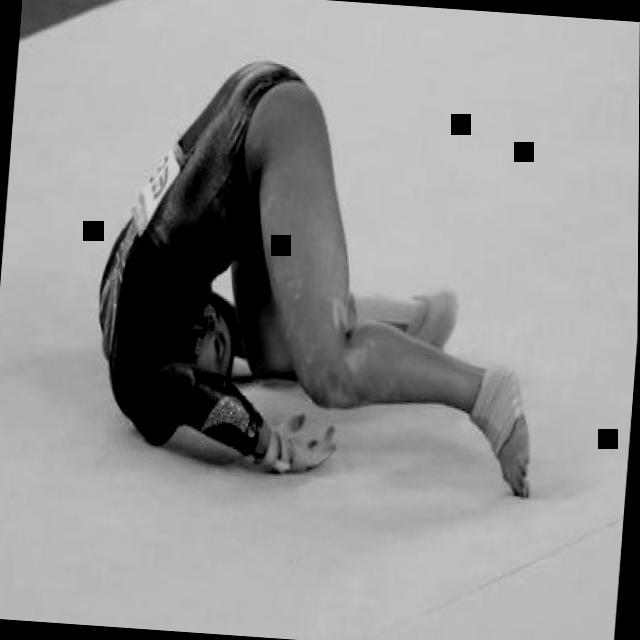Fall-Detected: (82, 26, 566, 495)
